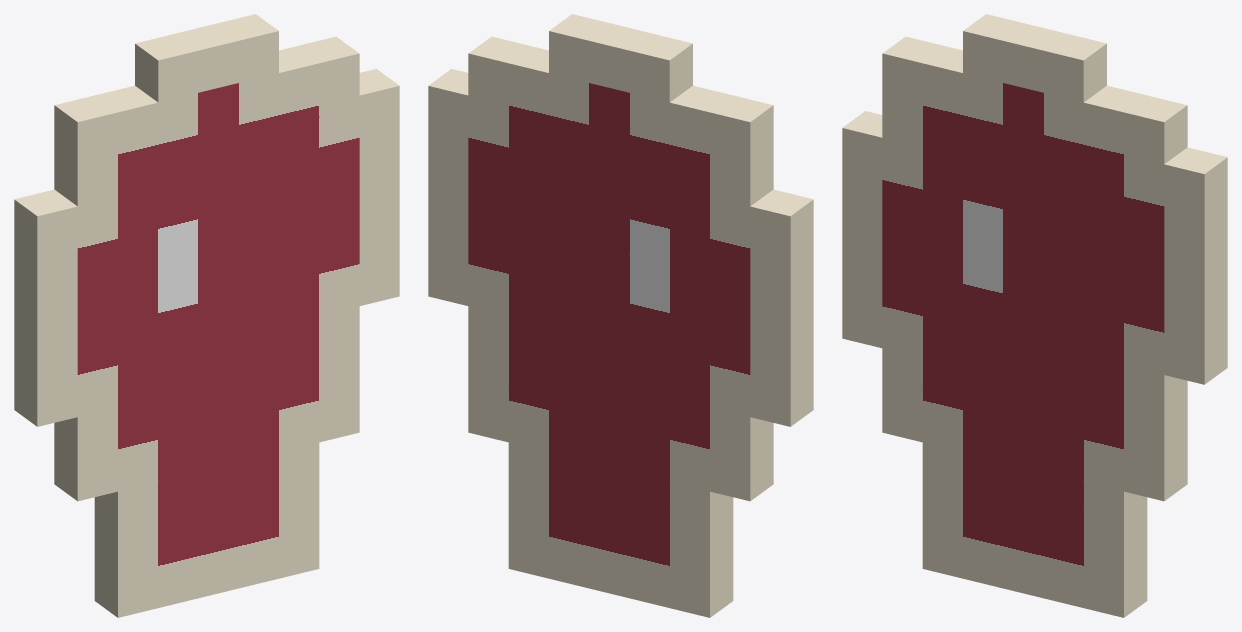
File: Meat.dae
3 renders of one model, left to right at view 1: azimuth 30°, elevation 25°; view 2: azimuth 150°, elevation 25°; view 3: azimuth 330°, elevation 25°, orthographic.
Parts seen in each view (by area): view 1: Meat; view 2: Meat; view 3: Meat.
Part boxes in pixels (bbox=[...]): Meat: bbox=[14, 14, 399, 617]; Meat: bbox=[428, 14, 813, 617]; Meat: bbox=[842, 14, 1227, 617].
Bounding box in the file's own units: 9 × 13 × 1.
1 material, 1 textured.
